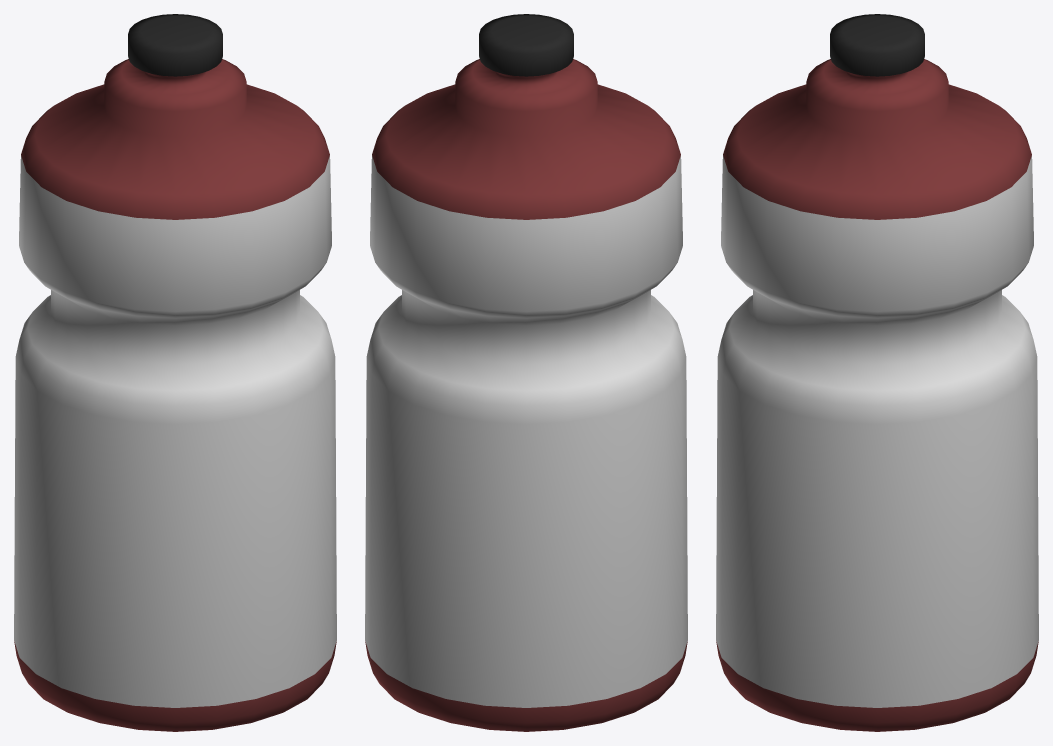
File: WaterBottle.fbx
3 renders of one model, left to right at view 1: azimuth 30°, elevation 25°; view 2: azimuth 150°, elevation 25°; view 3: azimuth 270°, elevation 25°, orthographic.
Parts seen in each view (by area): view 1: Cylinder.027; view 2: Cylinder.027; view 3: Cylinder.027.
Part boxes in pixels (<box>): Cylinder.027: <box>14,14,336,731</box>; Cylinder.027: <box>365,14,687,731</box>; Cylinder.027: <box>716,14,1038,731</box>.
Bounding box in the file's own units: 206 × 451 × 206.
